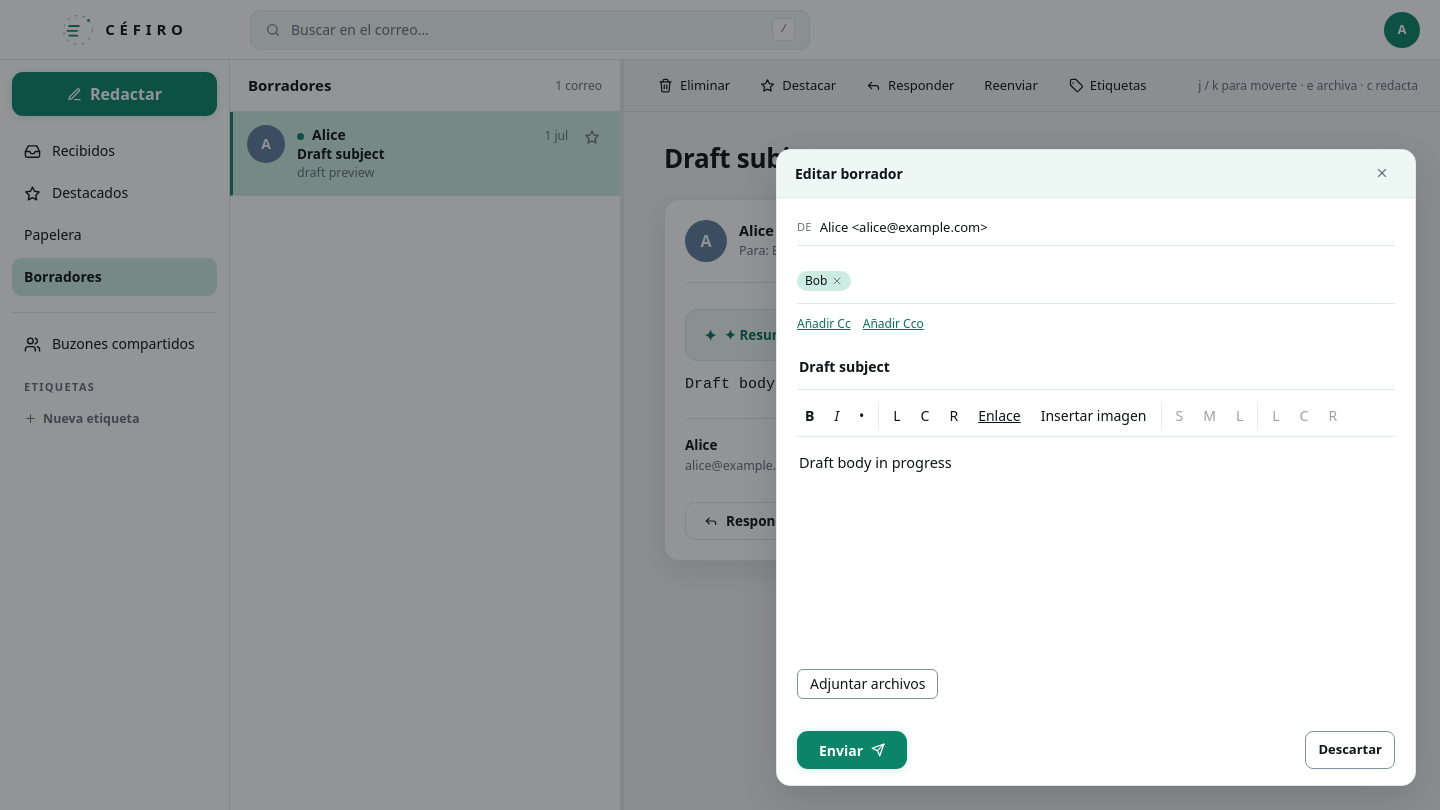
Test case: clearing the piggybacked thread param when a draft-mode composer closes › clears both compose and thread on Cancel, so the reader doesn't show the abandoned draft's thread
The width and height of the screenshot is (1440, 810).
// GH #269: edit-draft composer name.
Click the button "Descartar".
click(1350, 750)  # box top-left (1305, 731), bottom-right (1395, 769)
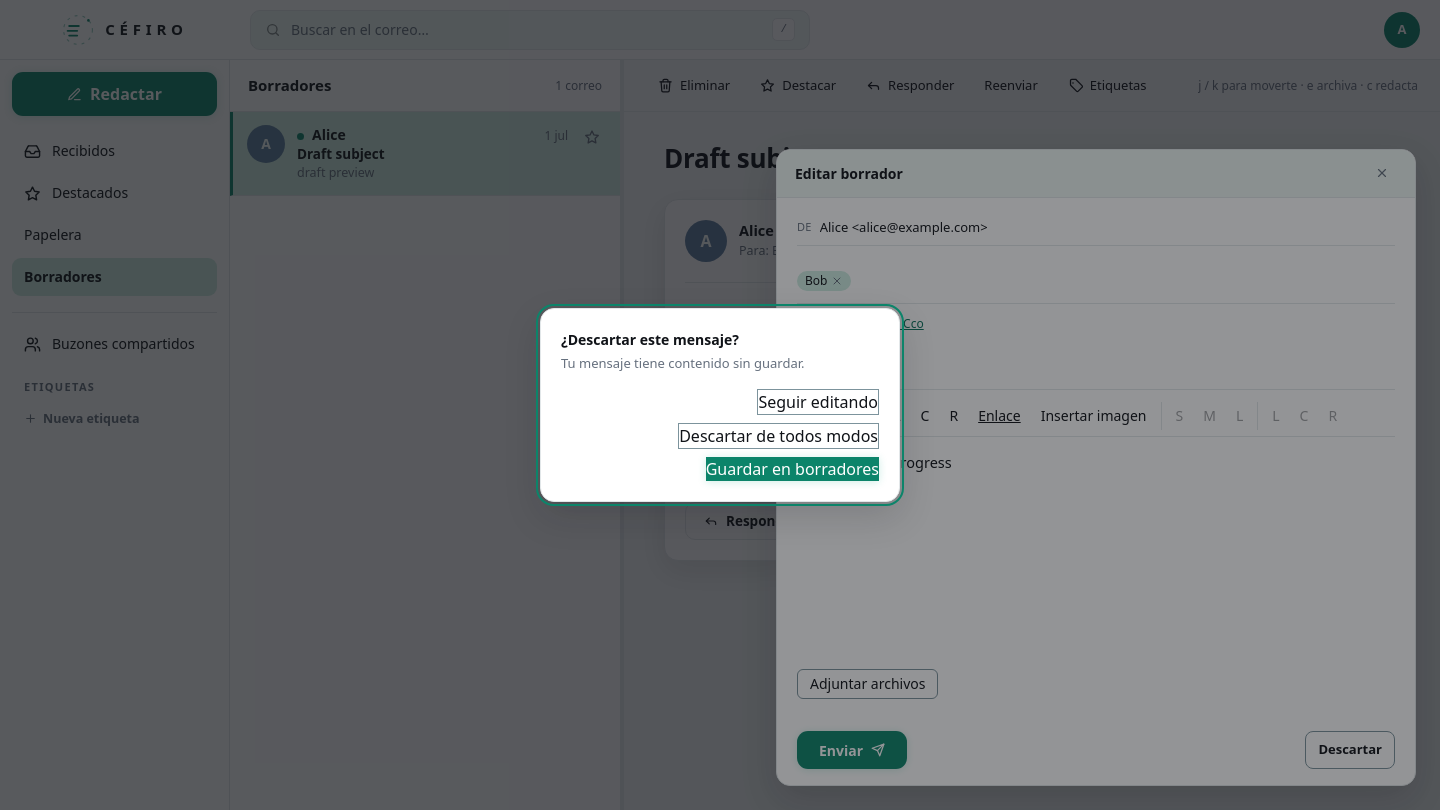
Click the button "Descartar de todos modos".
click(779, 436)  # box top-left (678, 423), bottom-right (879, 449)
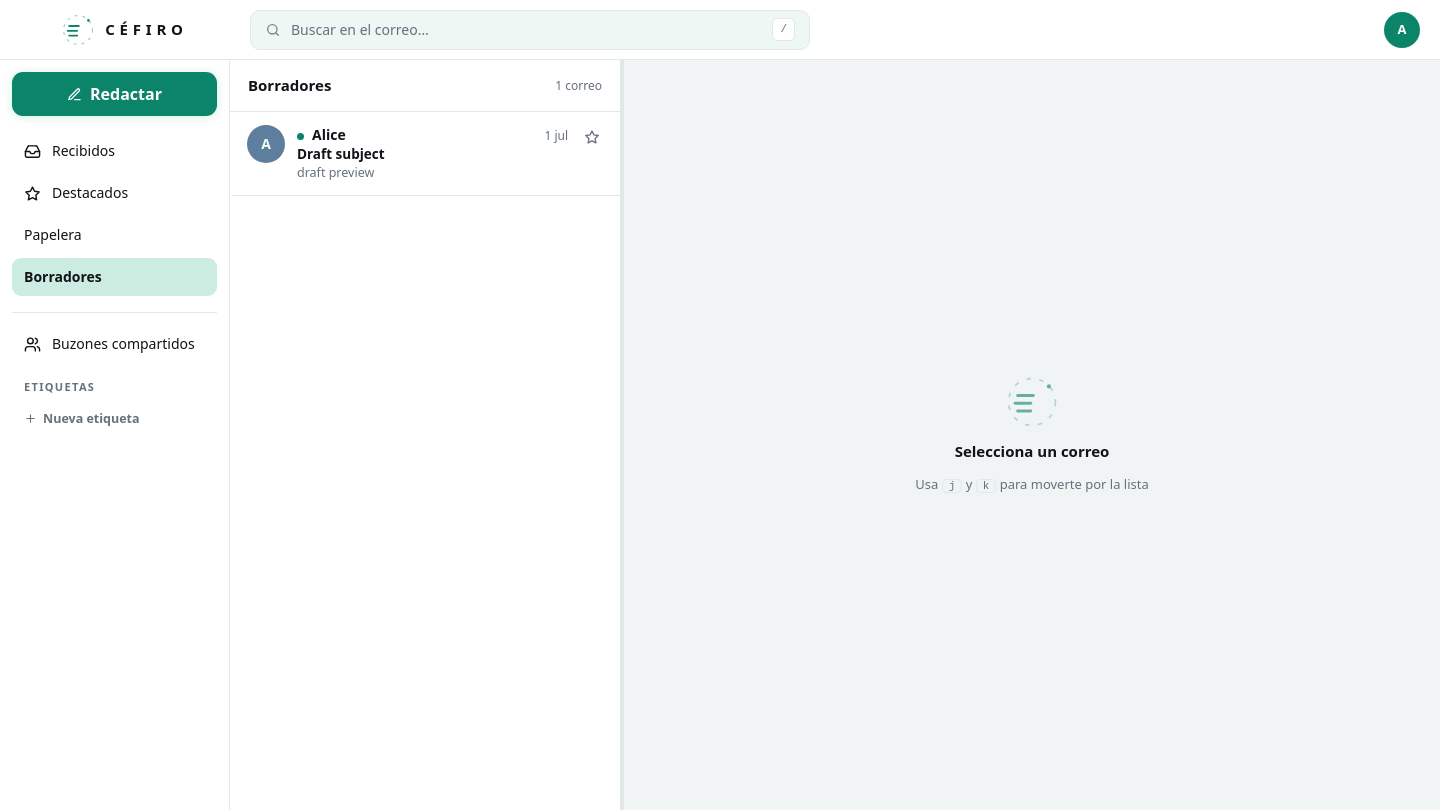
Check: the heading "Editar borrador" is gone
Check: the element with test id "thread-actions-bar" is gone
